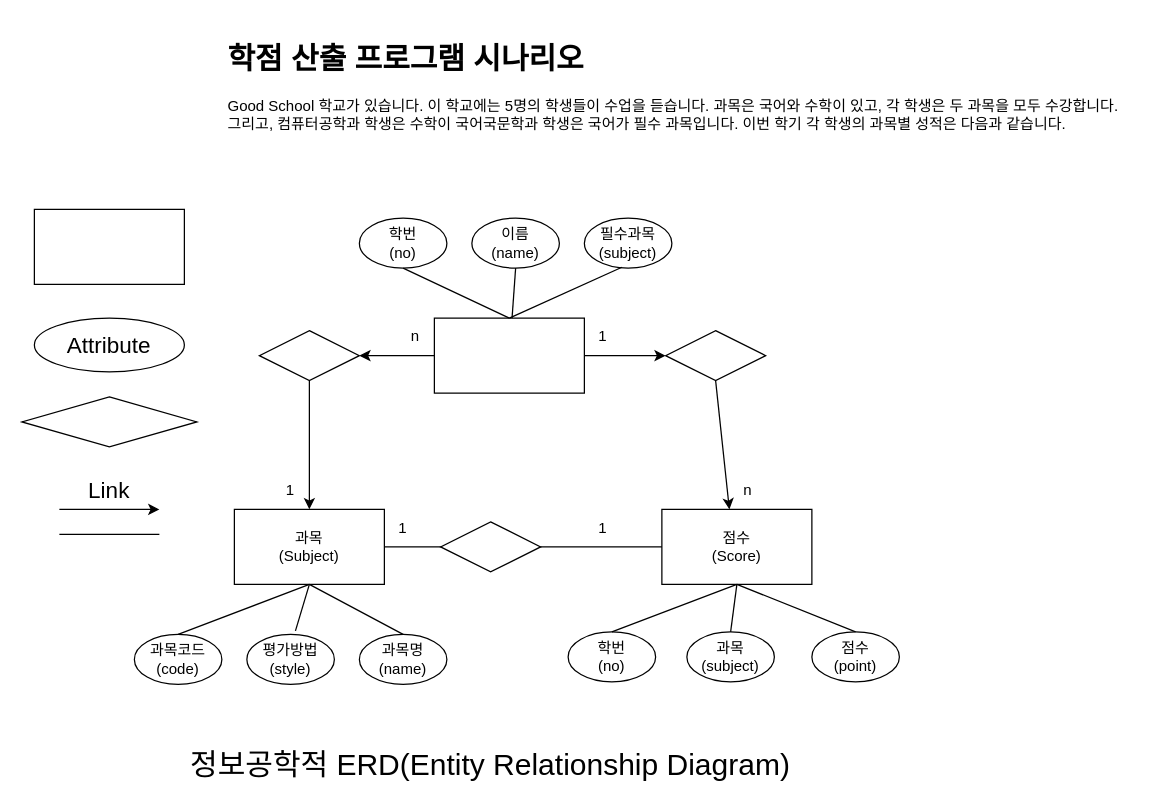
The diagram is 1156 pixels wide and 805 high, and some of its shapes have lost their labels. The shapes that lost their labels are listed below. From the top down, each one's box as (x1, y1, x2, y2) in pixels, then its label:
(33, 208, 184, 284): Entity
(258, 329, 359, 381): 수강
(433, 317, 584, 393): 학생 (Student)
(664, 329, 766, 381): 응시
(21, 396, 197, 447): Relation
(439, 521, 541, 572): 채점
